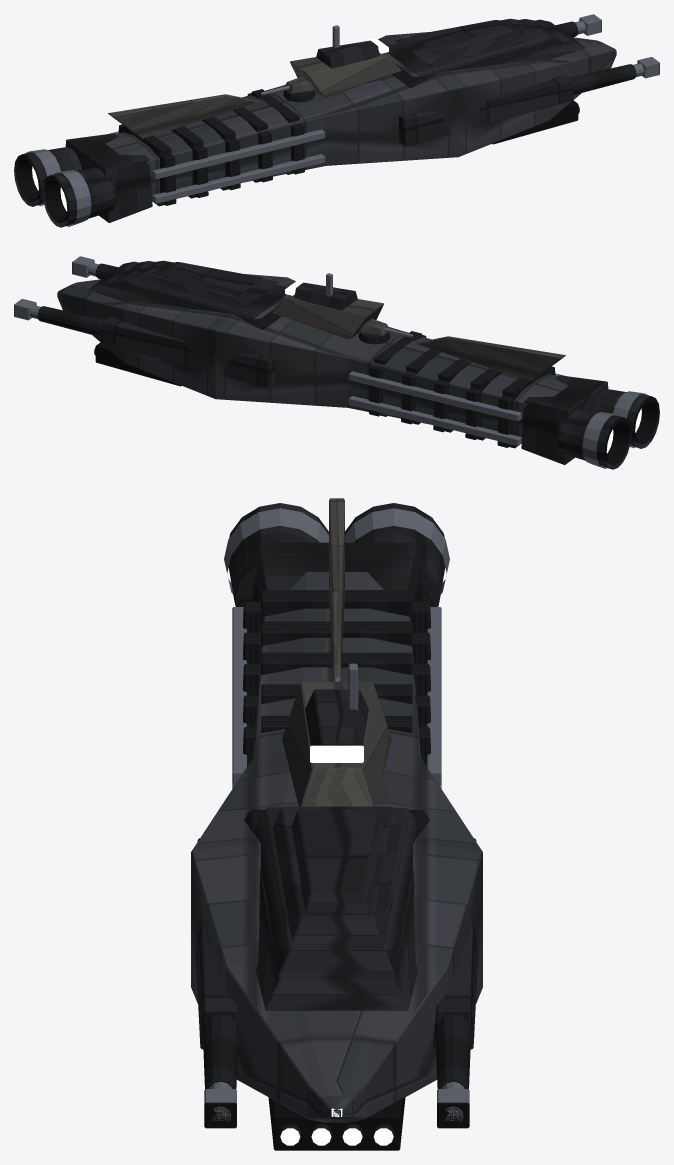
File: destroyer.glb
3 views of the same model, one above another, from view 1: azimuth 30°, elevation 25°; view 2: azimuth 150°, elevation 25°; view 3: azimuth 270°, elevation 25° (orthographic). The views are drawn at different scales.
Visible parts, largest first — view 1: destroyer; view 2: destroyer; view 3: destroyer.
Boxes of the visible parts, left/top/right/bottom form: destroyer: left=14, top=14, right=659, bottom=227; destroyer: left=14, top=256, right=659, bottom=469; destroyer: left=191, top=498, right=482, bottom=1150.
Bounding box in the file's own units: 30 × 6.63 × 6.48.
1 material, 1 textured.
